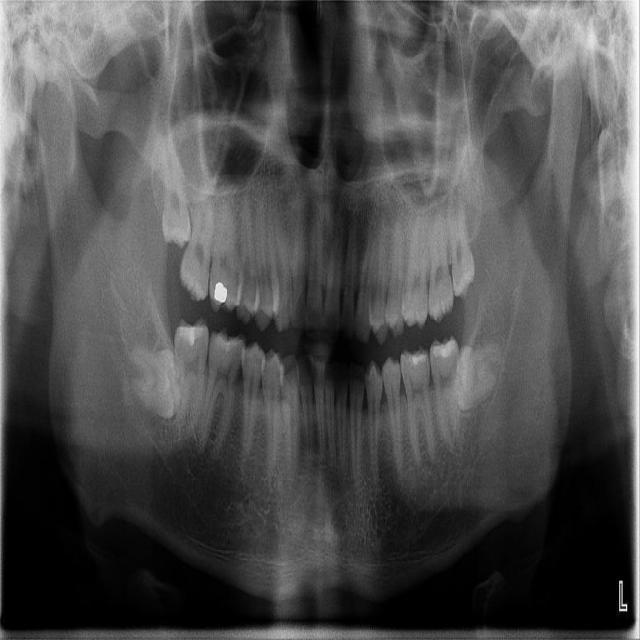Filling: (177, 323, 203, 348), (210, 279, 231, 308), (429, 339, 457, 359), (404, 350, 428, 366)
impacted tooth: (111, 350, 182, 418), (158, 136, 193, 245), (456, 333, 503, 414), (446, 187, 476, 298)
